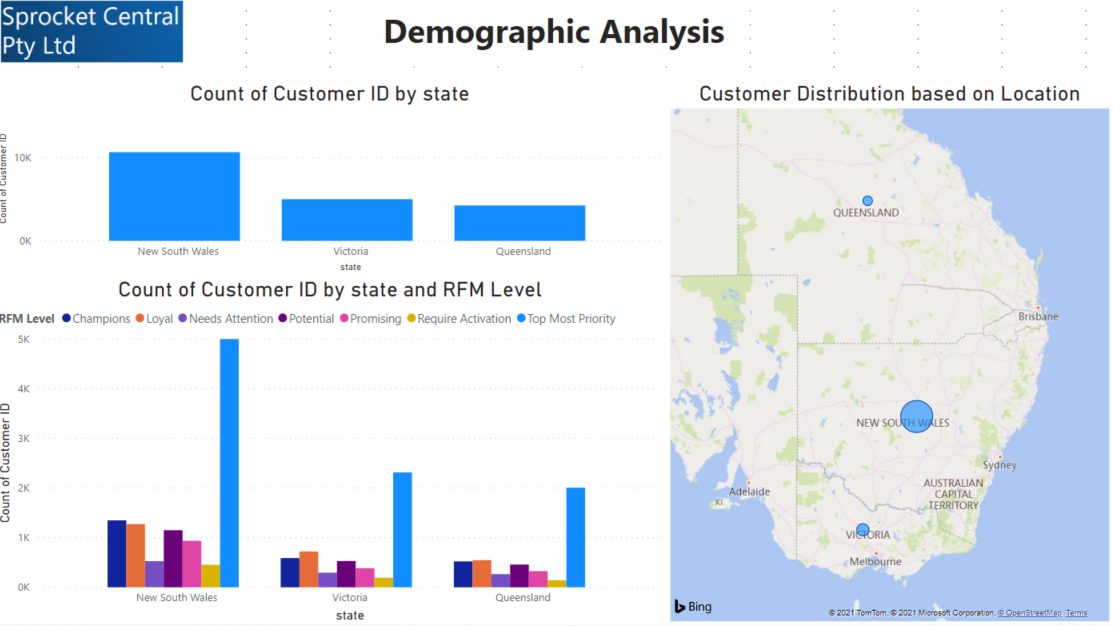

The dashboard page shown, as its layout file describes it:
{"tool":"powerbi","page":{"name":"Demographic Analysis","canvas":[1280,720],"ordinal":5},"visuals":[{"type":"map","title":"Customer Distribution based on Location","fields":{"Category":["FinalDataset.state"],"Size":["CountNonNull(FinalDataset.customer_id)"]},"box":[768,96,512,624],"z":0},{"type":"clusteredColumnChart","fields":{"Category":["FinalDataset.state"],"Series":["RFM_Analysis.RFM_Level"],"Y":["CountNonNull(Transactions.customer_id)"]},"box":[0,320,768,400],"z":1000},{"type":"clusteredColumnChart","fields":{"Y":["CountNonNull(Transactions.customer_id)"],"Category":["FinalDataset.state"]},"box":[0,96,768,224],"z":2000},{"type":"textbox","box":[416,8,448,72],"z":4000},{"type":"image","box":[0,0,288,80],"z":4001}]}

Visuals, with their boxes in screenshot pixels (x1, y1, x2, y2), scaled from the page's 1280x720 canvas onto the 1113x626 screenshot:
"Customer Distribution based on Location" map: (left=668, top=83, right=1112, bottom=625)
clusteredColumnChart - FinalDataset.state x RFM_Analysis.RFM_Level: (left=0, top=278, right=668, bottom=625)
clusteredColumnChart - CountNonNull(Transactions.customer_id) x FinalDataset.state: (left=0, top=83, right=668, bottom=278)
textbox: (left=362, top=7, right=751, bottom=70)
image: (left=0, top=0, right=250, bottom=70)
